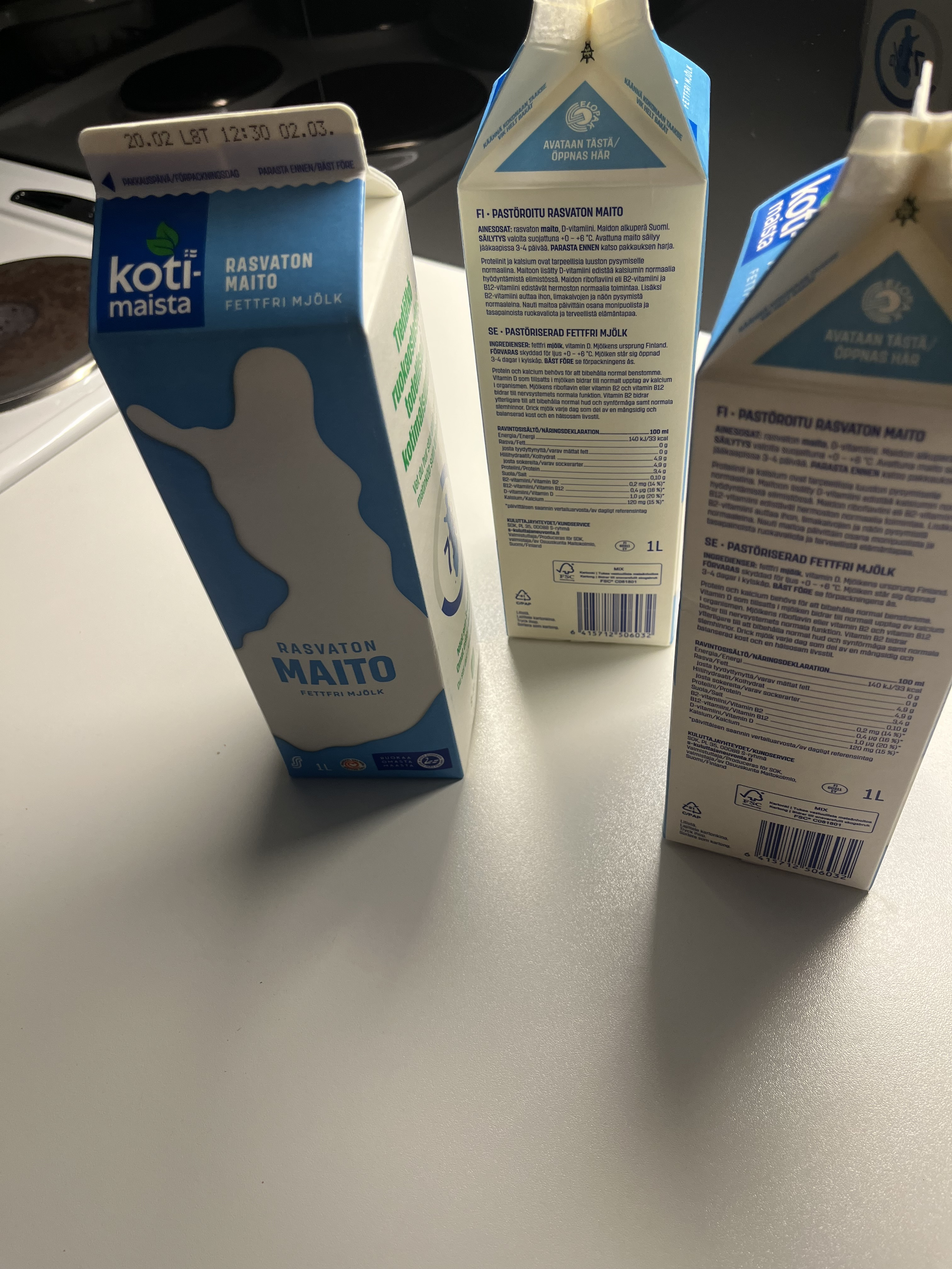Dryckeskartong: (48, 97, 488, 794), (661, 57, 947, 909), (436, 0, 711, 650)
